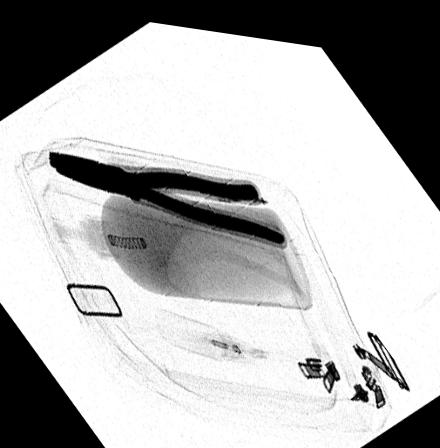Pliers: (48, 147, 285, 235)
